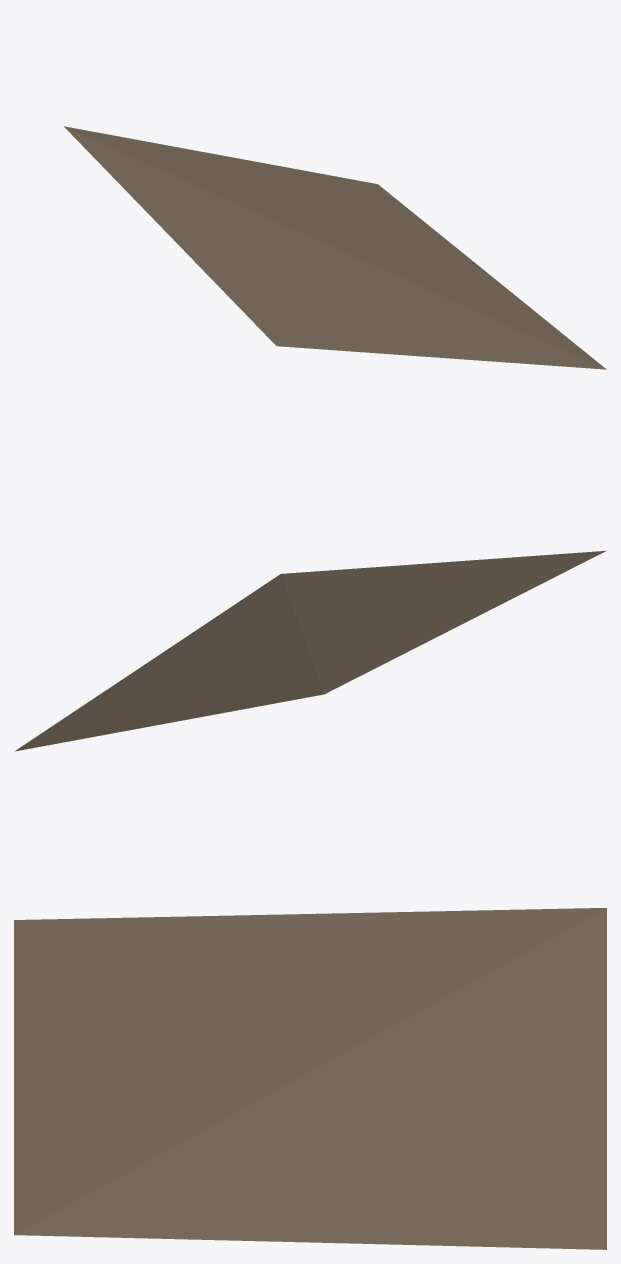
File: bree_dike_lod2.glb
3 renders of one model, top to bottom at view 1: azimuth 30°, elevation 25°; view 2: azimuth 150°, elevation 25°; view 3: azimuth 270°, elevation 25°, orthographic. The views are drawn at different scales.
Visible parts, largest first — view 1: bree_dike_lod2; view 2: bree_dike_lod2; view 3: bree_dike_lod2.
Boxes of the visible parts, <box> form: bree_dike_lod2: <box>64,126,606,369</box>; bree_dike_lod2: <box>14,550,606,751</box>; bree_dike_lod2: <box>14,908,606,1249</box>.
Bounding box in the file's own units: 3.37 × 2.18 × 4.
